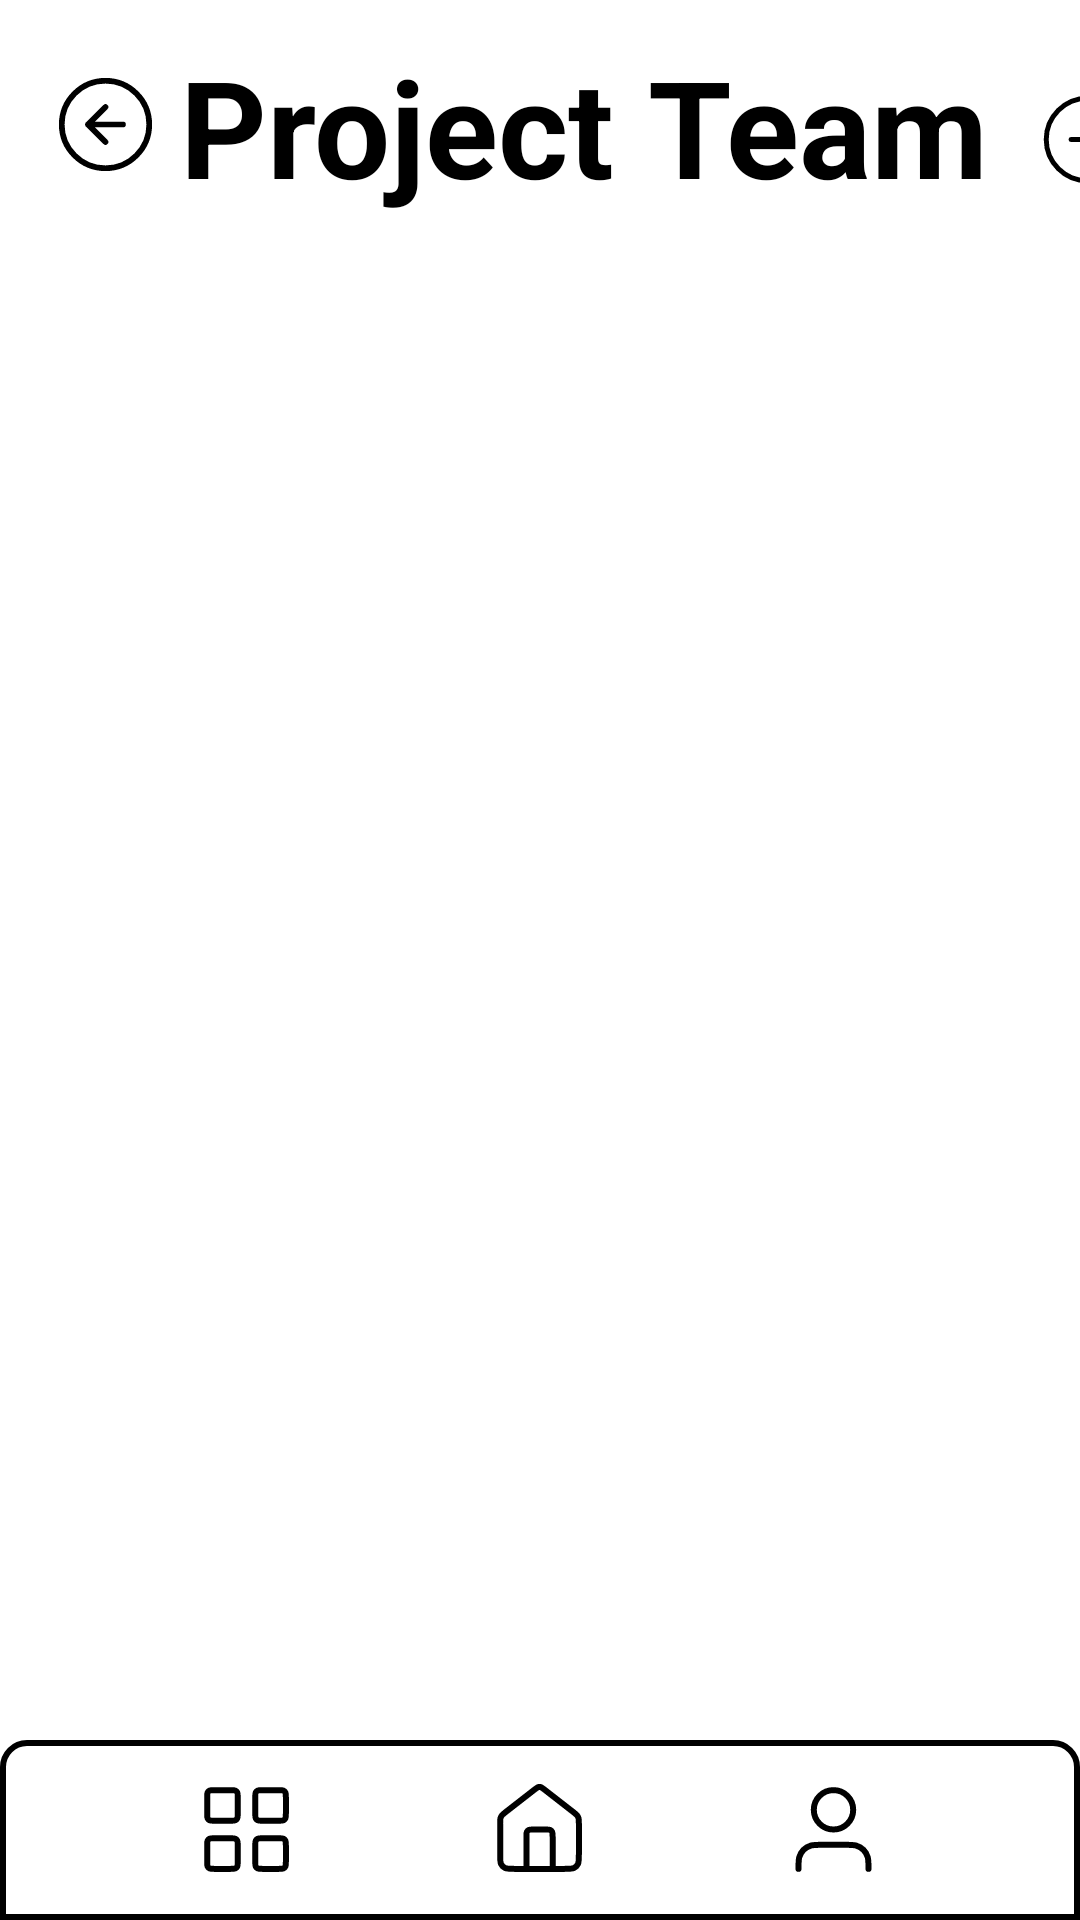

Locate icon controls on the screen. Image size 1080 × 1920, boxes as [left=x1, top=y1, right=x2, bottom=y2].
backbutton: [left=59, top=78, right=152, bottom=171]
grid: [left=204, top=1787, right=289, bottom=1872]
home: [left=497, top=1784, right=582, bottom=1872]
user: [left=795, top=1787, right=872, bottom=1872]
